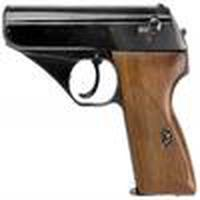gun: (5, 6, 200, 199)
